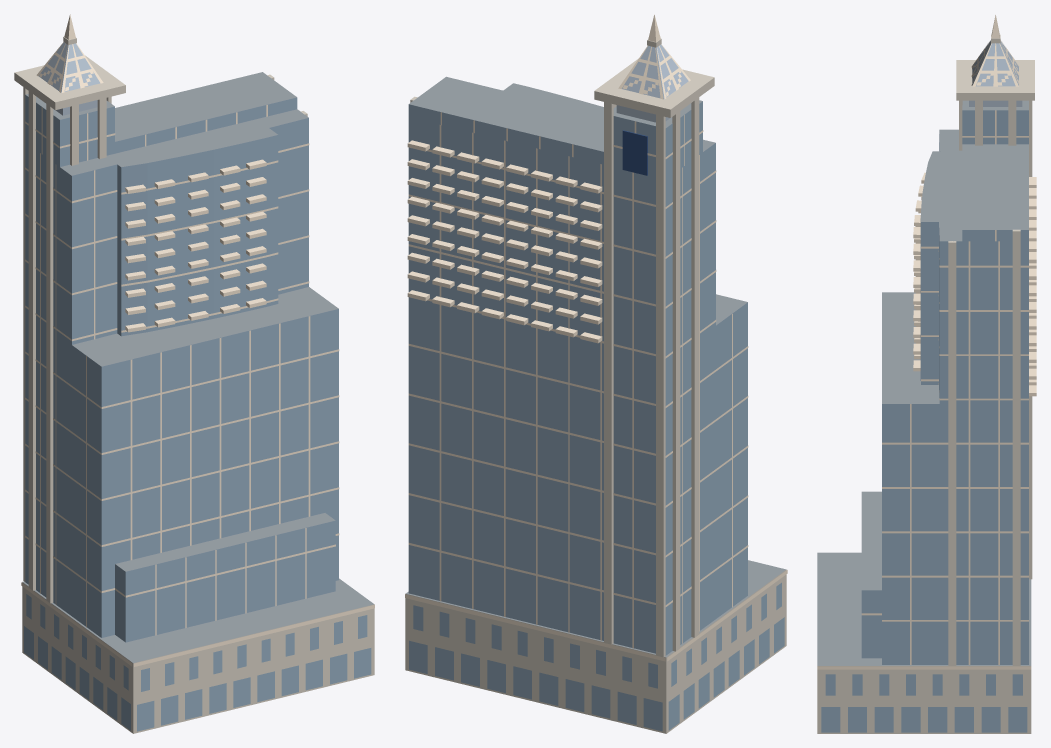
File: ral-pnc-plaza.glb
The picture shows the model from 3 angles, left to right: view 1: azimuth 30°, elevation 25°; view 2: azimuth 150°, elevation 25°; view 3: azimuth 270°, elevation 25°; orthographic projection. The views are drawn at different scales.
Parts seen in each view (by area): view 1: PNC Plaza; view 2: PNC Plaza; view 3: PNC Plaza.
Boxes of the visible parts, x1,y1,x2,y2 form: PNC Plaza: (14, 14, 374, 733); PNC Plaza: (405, 14, 787, 733); PNC Plaza: (817, 15, 1036, 733).
Size of the model in its own units: 66.05 by 164 by 52.75.
